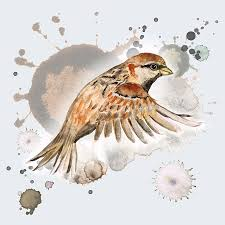hsparrow: (31, 49, 205, 175)
